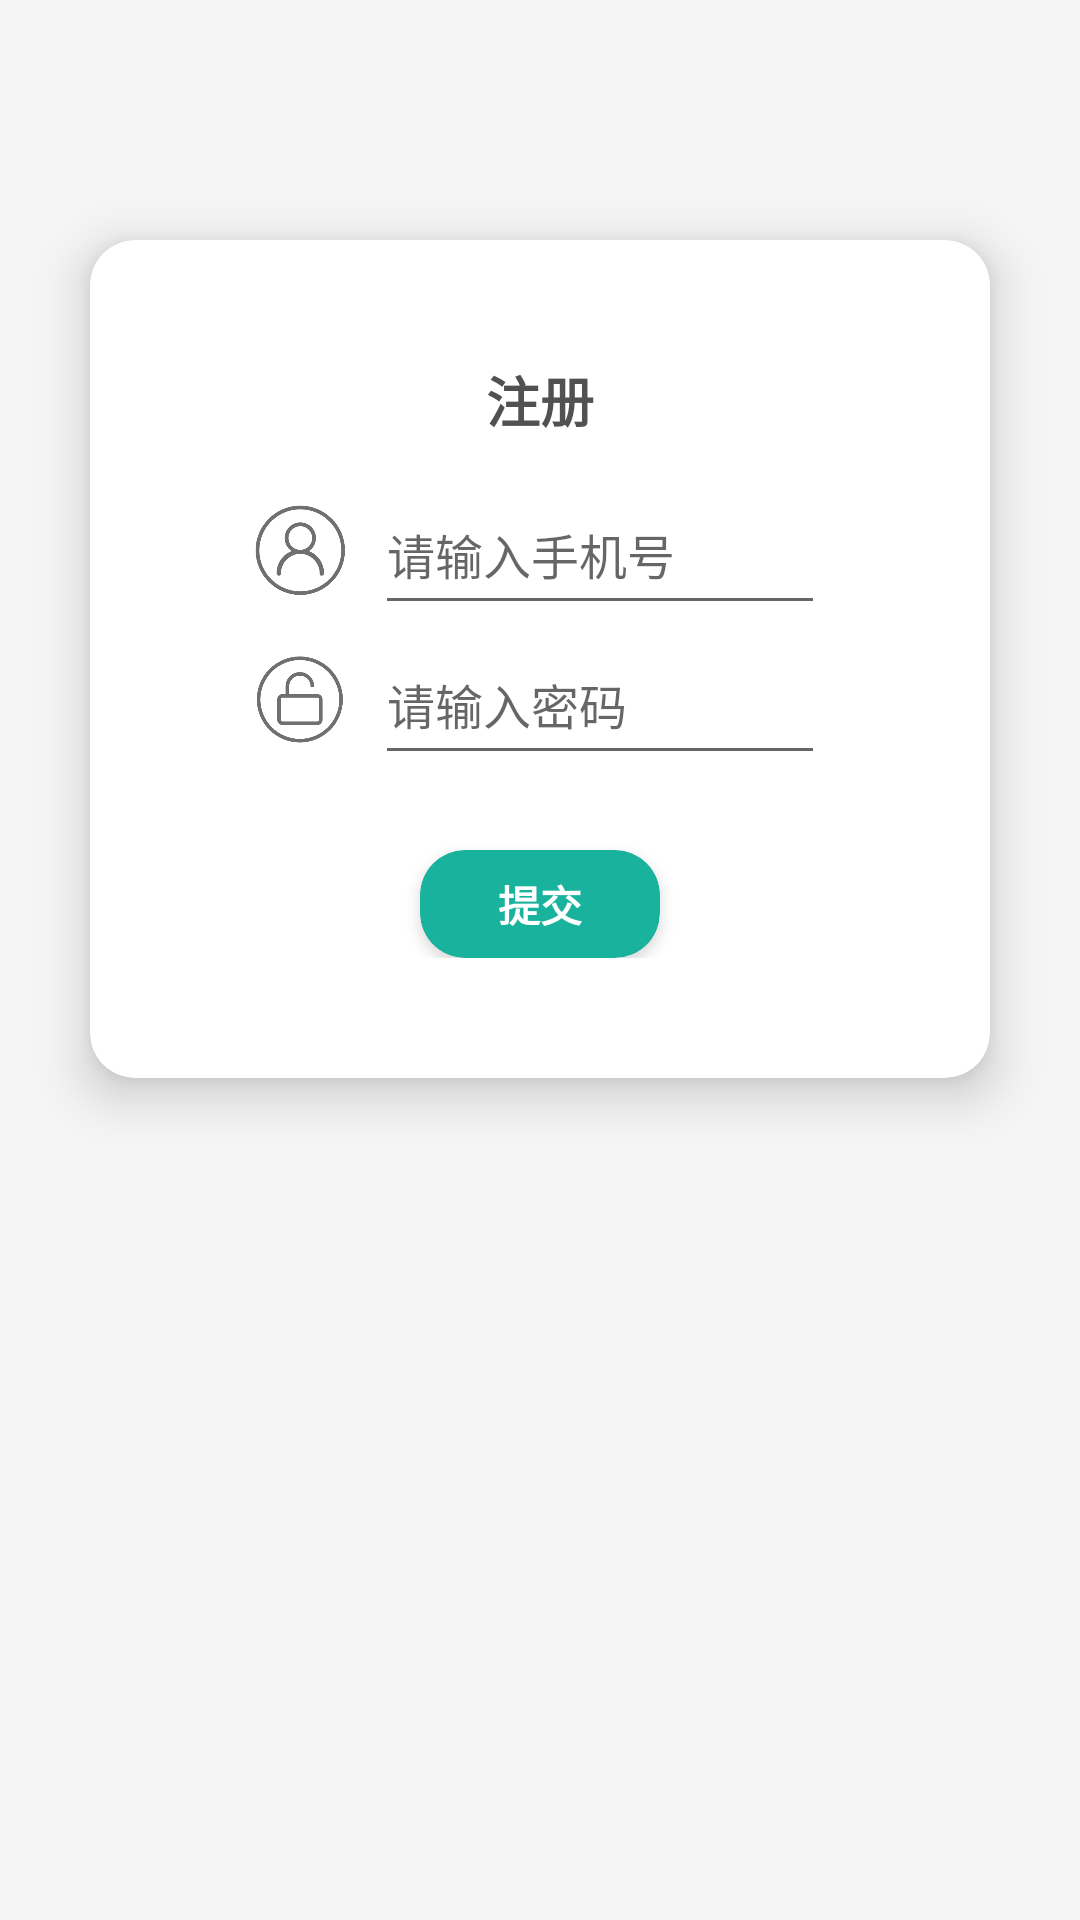

Named icons in this screenshot (1080*1920) and their centers, (x,y):
password: (300,699)
user: (300,550)
